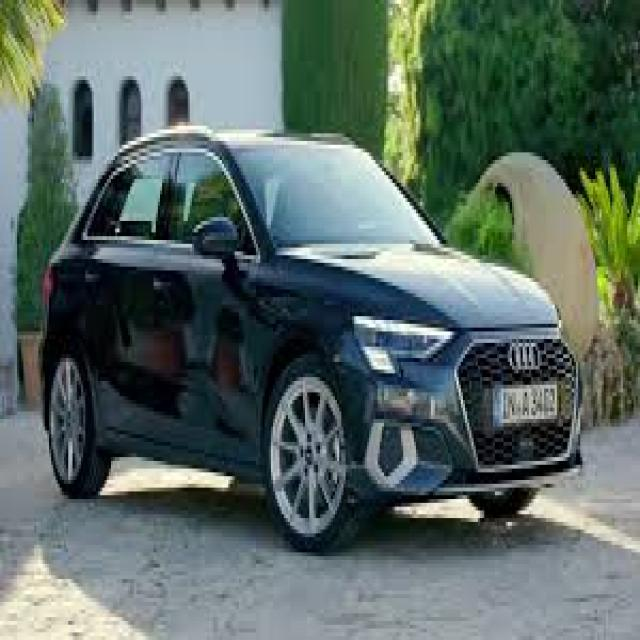SUV: (31, 124, 582, 548)
